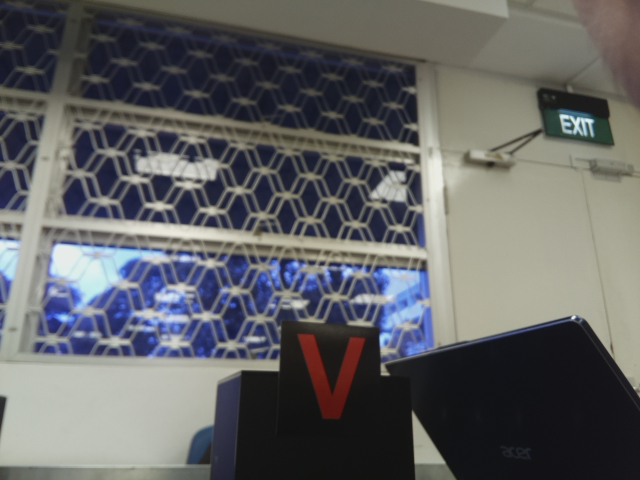v: (292, 331, 376, 423)
